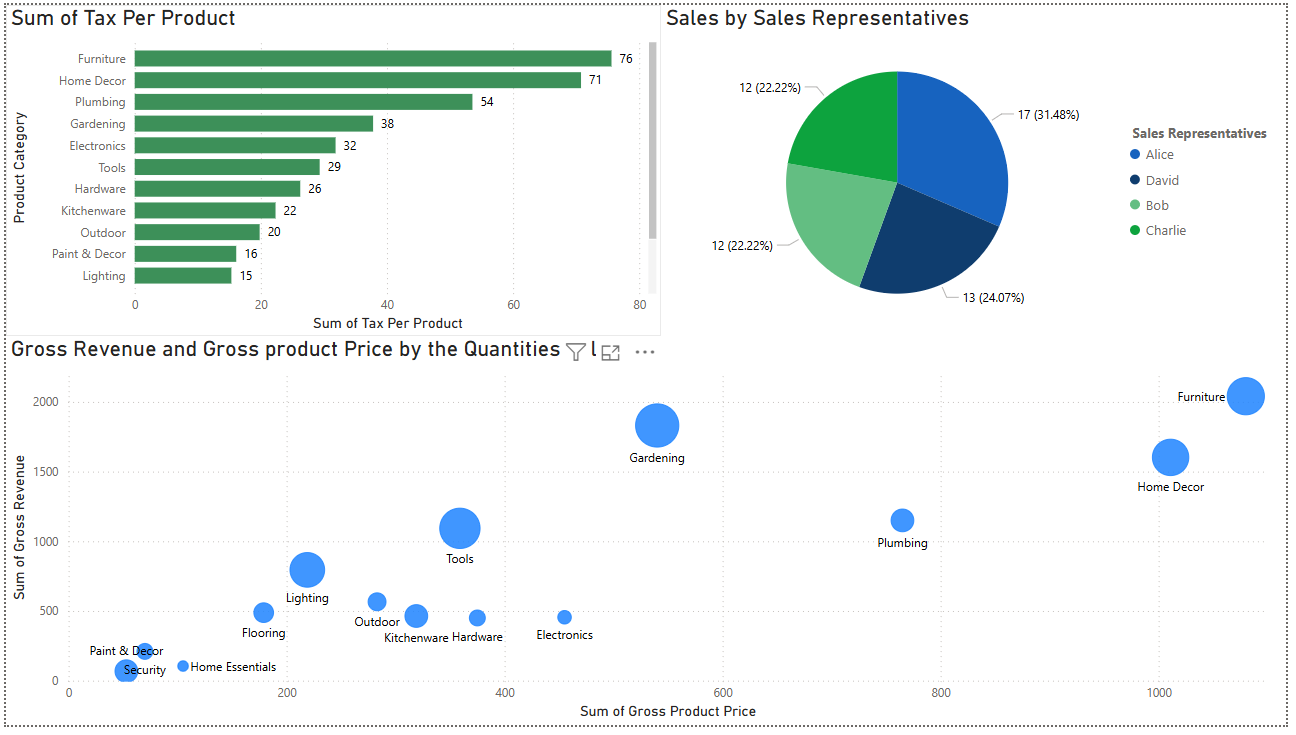

The dashboard page shown, as its layout file describes it:
{"tool":"powerbi","page":{"name":"Sales Representative and Per Product Overview","canvas":[1280,720],"ordinal":4},"visuals":[{"type":"scatterChart","title":"Gross Revenue and Gross product Price by the Quantities Sold","fields":{"Category":["Sales.Product Category"],"X":["Sum(Sales.Gross Product Price)"],"Y":["Sum(Sales.Gross Revenue)"],"Size":["Sum(Sales.Quantity Purchased)"]},"box":[0,331.8,1280,388.5],"z":0},{"type":"clusteredBarChart","title":"Sum of Tax Per Product","fields":{"Category":["Sales.Product Category"],"Y":["Sum(Sales.Tax Per Product)"]},"box":[0,0,655.1,331.8],"z":1000},{"type":"pieChart","title":"Sales by Sales Representatives","fields":{"Category":["Sales. Sales Rep "],"Y":["CountNonNull(Sales. OrderID )"]},"box":[655.1,0,624.9,331.8],"z":2000}]}

Visuals, with their boxes in screenshot pixels (x1, y1, x2, y2), scaled from the page's 1280x720 canvas onto the 1296x735 screenshot:
"Gross Revenue and Gross product Price by the Quantities Sold" scatterChart: <region>0, 339, 1295, 734</region>
"Sum of Tax Per Product" clusteredBarChart: <region>0, 0, 663, 339</region>
"Sales by Sales Representatives" pieChart: <region>663, 0, 1295, 339</region>
